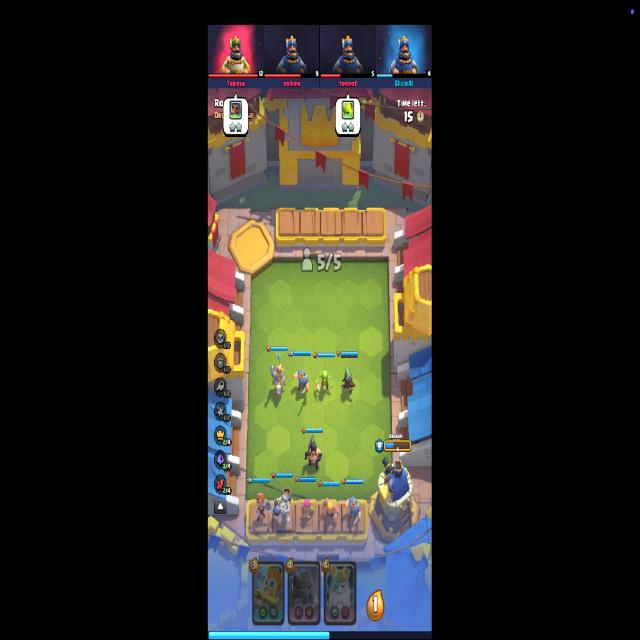archer: (301, 499, 314, 522)
bandit: (342, 368, 356, 395)
barbarian: (321, 497, 340, 525)
card_dart_goblin: (253, 560, 284, 626)
card_mega_knight: (288, 560, 320, 624)
card_royal_ghost: (324, 560, 357, 626)
executioner: (304, 435, 323, 472)
giant_skeleton: (274, 488, 294, 526)
goblin: (315, 368, 332, 396)
knight: (293, 368, 310, 396), (345, 496, 361, 524)
prince: (270, 352, 286, 398)
valkyrie: (256, 491, 272, 522)
